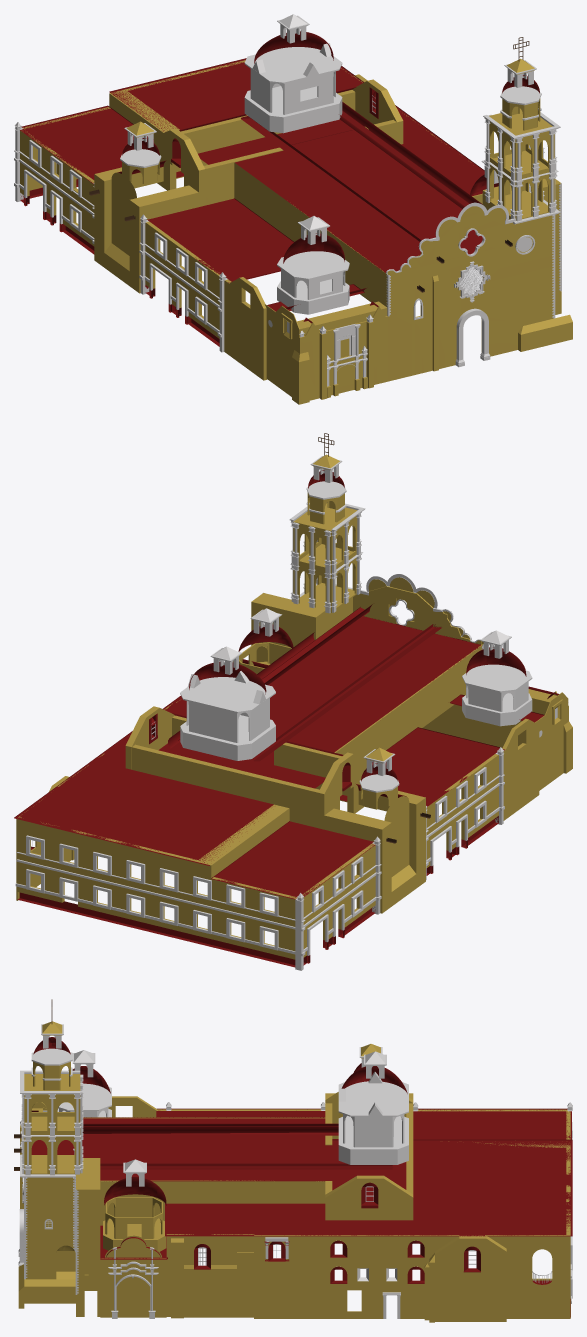
Rendered from IglesiaAtlixco.fbx.
3 views of the same model, one above another, from view 1: azimuth 30°, elevation 25°; view 2: azimuth 150°, elevation 25°; view 3: azimuth 270°, elevation 25° (orthographic). The views are drawn at different scales.
Visible parts, largest first — view 1: pared_map_d3dbsp_t7_concrete_floor_sealed_01_warm2; view 2: pared_map_d3dbsp_t7_concrete_floor_sealed_01_warm2; view 3: pared_map_d3dbsp_t7_concrete_floor_sealed_01_warm2.
Part boxes in pixels (x1,y1,x2,y2): pared_map_d3dbsp_t7_concrete_floor_sealed_01_warm2: (14, 14, 572, 404); pared_map_d3dbsp_t7_concrete_floor_sealed_01_warm2: (14, 433, 572, 970); pared_map_d3dbsp_t7_concrete_floor_sealed_01_warm2: (14, 999, 572, 1322).
Size of the model in its own units: 1977 by 1800 by 3115.
